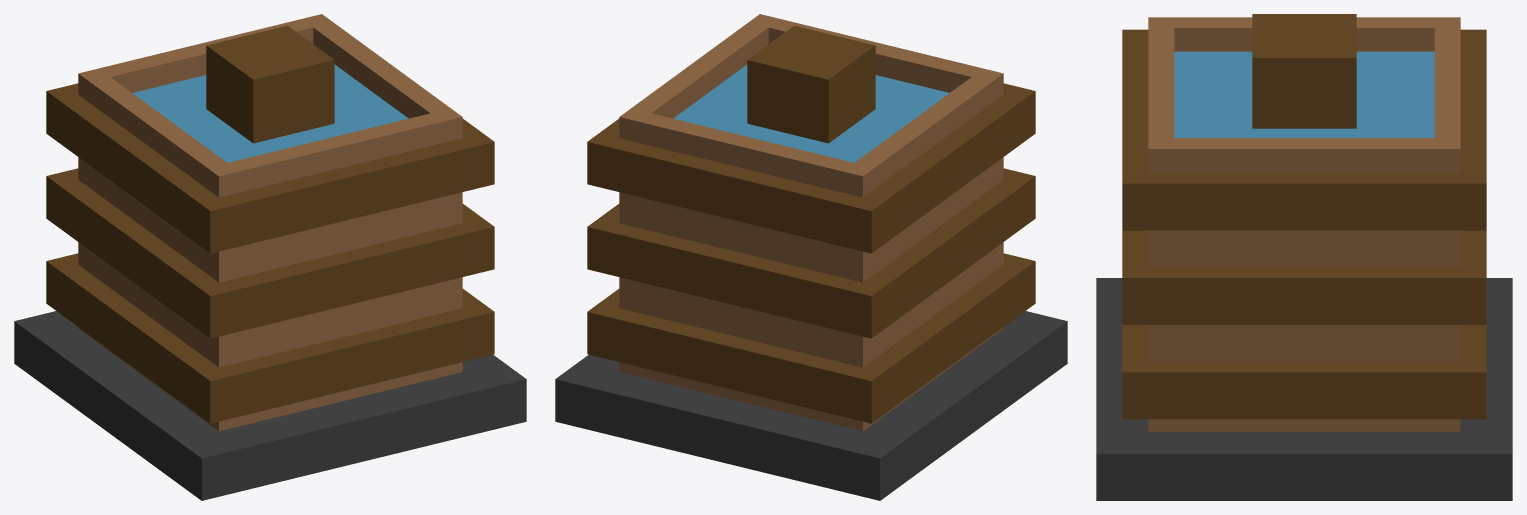
The model's file is WoodenCentrifuge.fbx.
The picture shows the model from 3 angles, left to right: view 1: azimuth 30°, elevation 25°; view 2: azimuth 150°, elevation 25°; view 3: azimuth 270°, elevation 25°; orthographic projection. The views are drawn at different scales.
Parts seen in each view (by area): view 1: cube, Base, cube_10, cube_11, cube_12, Connection, cube_6, cube_4, cube_5, Content, cube_1, cube_2 (+1 smaller); view 2: cube, Base, cube_7, cube_8, cube_9, Connection, cube_6, cube_4, cube_5, Content, cube_1, cube_2 (+1 smaller); view 3: cube, Base, cube_2, cube_3, cube_1, Content, Connection, cube_9, cube_12, cube_7, cube_8, cube_10 (+2 smaller).
Boxes of the visible parts, bbox=[...] form: cube: bbox=[78, 14, 462, 431]; Base: bbox=[14, 311, 526, 500]; cube_10: bbox=[219, 308, 474, 418]; cube_11: bbox=[219, 223, 474, 333]; cube_12: bbox=[219, 138, 474, 248]; Connection: bbox=[206, 25, 334, 143]; cube_6: bbox=[46, 86, 230, 253]; cube_4: bbox=[46, 256, 230, 423]; cube_5: bbox=[46, 171, 230, 338]; Content: bbox=[132, 64, 408, 162]; cube_1: bbox=[462, 204, 494, 274]; cube_2: bbox=[462, 119, 494, 189]; cube: bbox=[619, 14, 1003, 431]; Base: bbox=[555, 311, 1067, 500]; cube_7: bbox=[607, 308, 862, 418]; cube_8: bbox=[607, 223, 862, 333]; cube_9: bbox=[607, 138, 862, 248]; Connection: bbox=[747, 25, 875, 143]; cube_6: bbox=[851, 86, 1035, 253]; cube_4: bbox=[851, 256, 1035, 423]; cube_5: bbox=[851, 171, 1035, 338]; Content: bbox=[673, 64, 949, 162]; cube_1: bbox=[587, 204, 619, 274]; cube_2: bbox=[587, 119, 619, 189]; cube: bbox=[1148, 17, 1460, 431]; Base: bbox=[1096, 278, 1512, 500]; cube_2: bbox=[1122, 172, 1486, 230]; cube_3: bbox=[1122, 361, 1486, 419]; cube_1: bbox=[1122, 267, 1486, 324]; Content: bbox=[1174, 51, 1434, 137]; Connection: bbox=[1252, 14, 1356, 128]; cube_9: bbox=[1460, 40, 1486, 172]; cube_12: bbox=[1122, 40, 1148, 172]; cube_7: bbox=[1460, 325, 1486, 361]; cube_8: bbox=[1460, 230, 1486, 266]; cube_10: bbox=[1122, 325, 1148, 361].
Bounding box in the file's own units: 100 × 100 × 100.
1 material, 1 textured.
